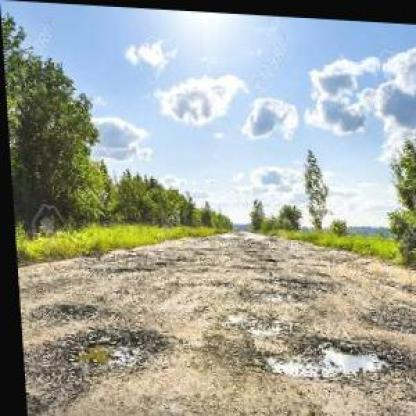pothole: (248, 324, 412, 382), (44, 319, 161, 381), (42, 297, 96, 326)
